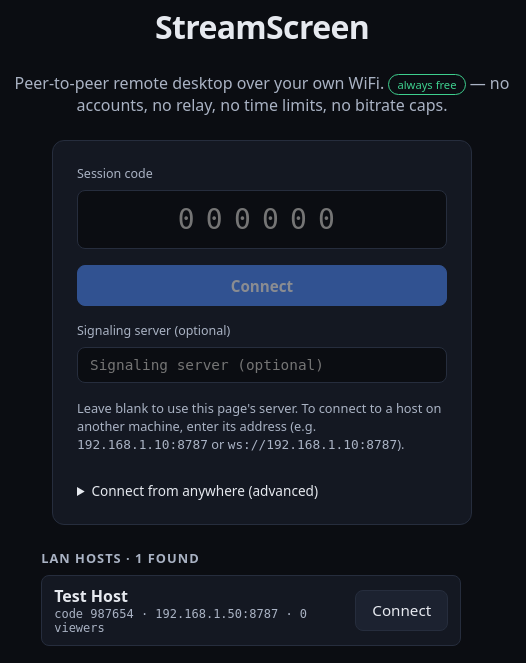
Test: ConnectScreen › auto-connects when picking a discovered host with a valid code
The width and height of the screenshot is (526, 663).
Step 1. Click the button "Connect" in the row of "Test Host" → (402, 610), box [355,590,448,631]
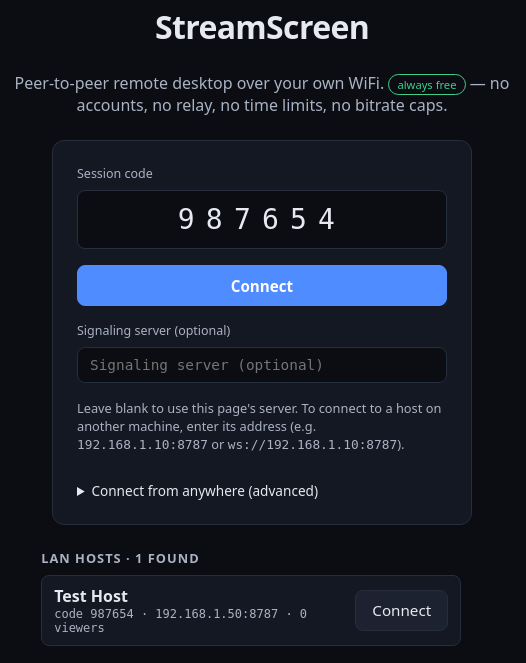
Expected: the field labelled "Session code" holds "987654", [77,190,447,249]
